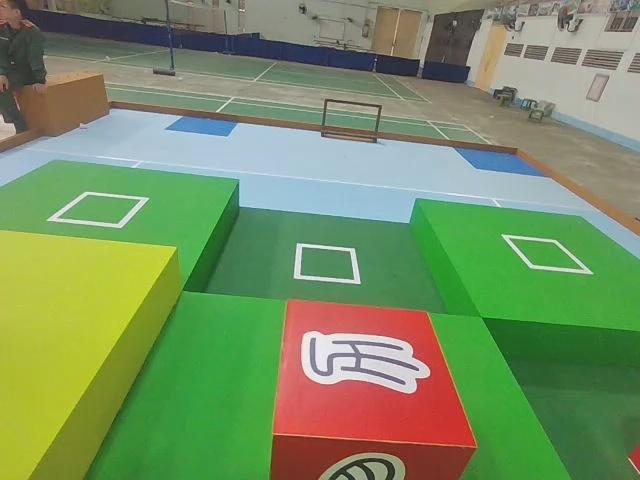R2 Fake: (267, 295, 482, 480)
